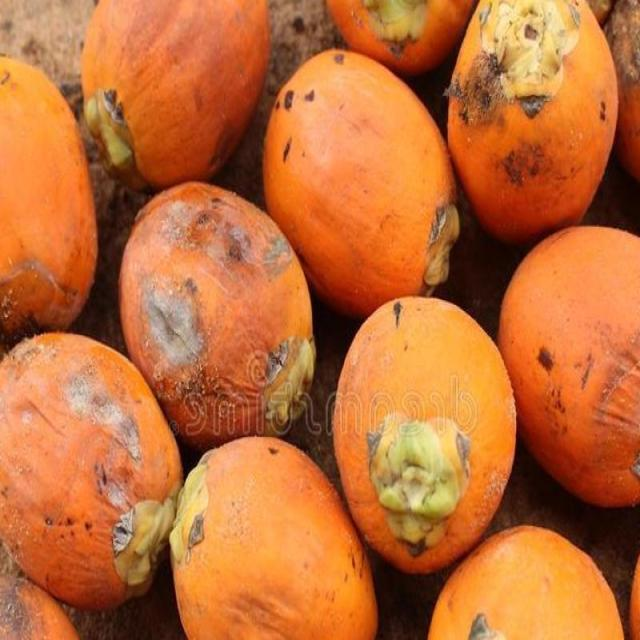good: (115, 184, 334, 474), (261, 48, 463, 323), (328, 297, 518, 580), (0, 334, 186, 618), (137, 437, 380, 639), (444, 0, 621, 250), (494, 226, 639, 512), (82, 0, 272, 196), (0, 56, 100, 363), (425, 526, 626, 639)
